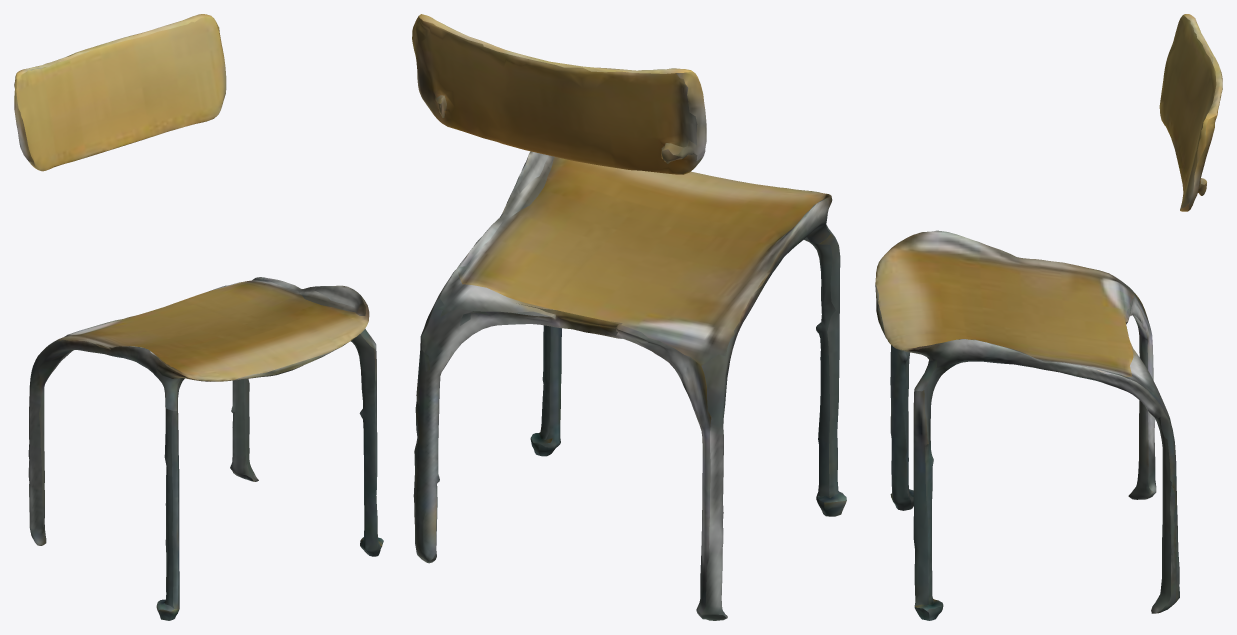
3 renders of one model, left to right at view 1: azimuth 30°, elevation 25°; view 2: azimuth 150°, elevation 25°; view 3: azimuth 270°, elevation 25°, orthographic. The views are drawn at different scales.
Parts seen in each view (by area): view 1: world; view 2: world; view 3: world.
Boxes of the visible parts, left/top/right/bottom form: world: left=14, top=14, right=383, bottom=620; world: left=412, top=14, right=846, bottom=620; world: left=875, top=14, right=1222, bottom=620.
Size of the model in its own units: 0.2863 by 0.4915 by 0.317.
1 material, 1 textured.
